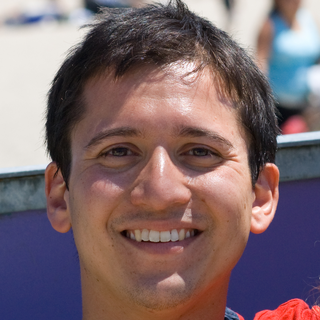eye: (176, 142, 225, 166), (96, 140, 143, 164)
